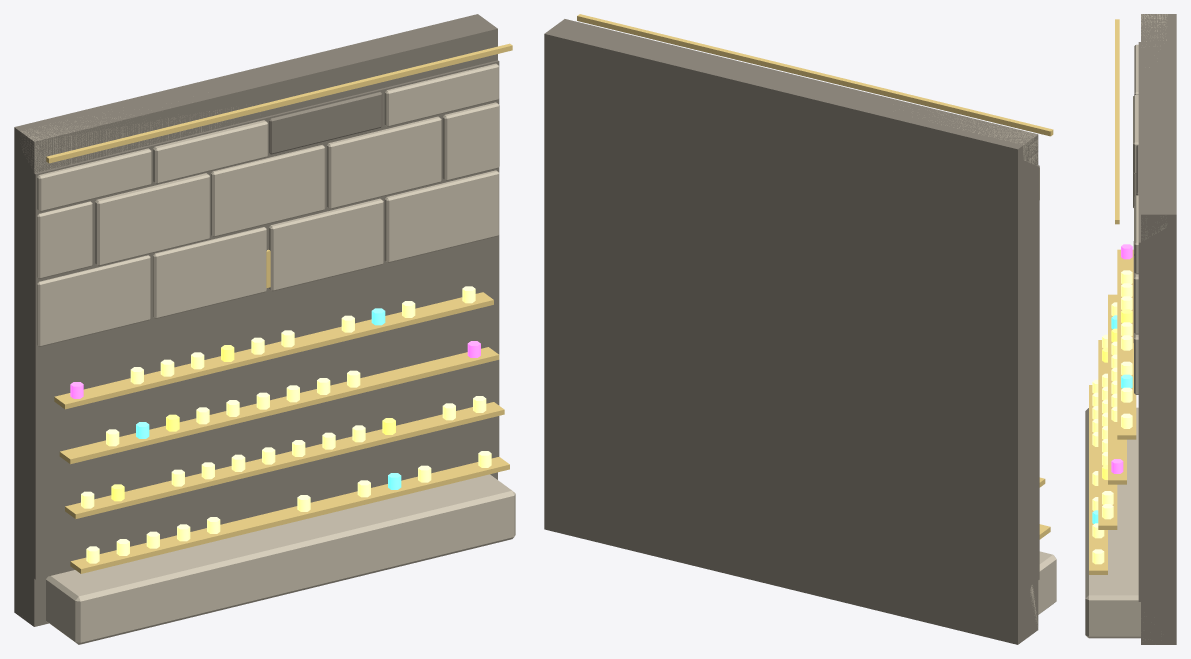
The model's file is wall_bb_votive.glb.
3 views of the same model, side by side, from view 1: azimuth 30°, elevation 25°; view 2: azimuth 150°, elevation 25°; view 3: azimuth 270°, elevation 25° (orthographic). The views are drawn at different scales.
Parts seen in each view (by area): view 1: wall_bb_votive; view 2: wall_bb_votive; view 3: wall_bb_votive.
Boxes of the visible parts, left/top/right/bottom form: wall_bb_votive: left=14, top=14, right=515, bottom=644; wall_bb_votive: left=544, top=14, right=1056, bottom=644; wall_bb_votive: left=1085, top=14, right=1176, bottom=644.
Size of the model in its own units: 4 by 4 by 0.77.
